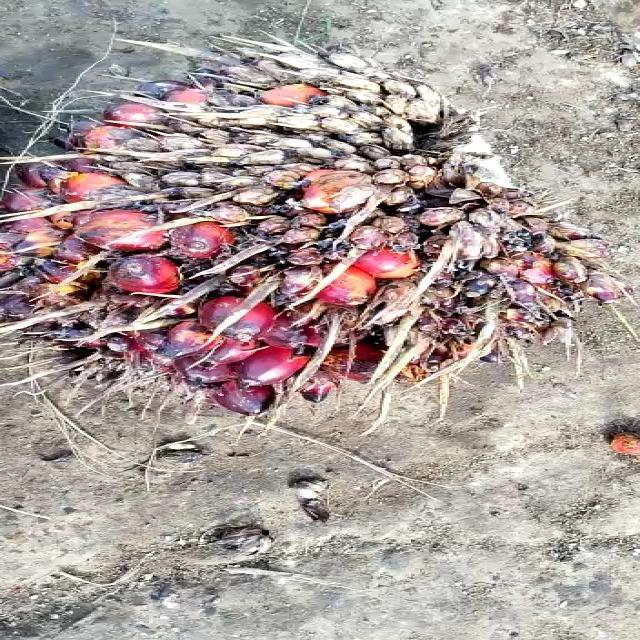palm oil: (0, 22, 631, 440)
